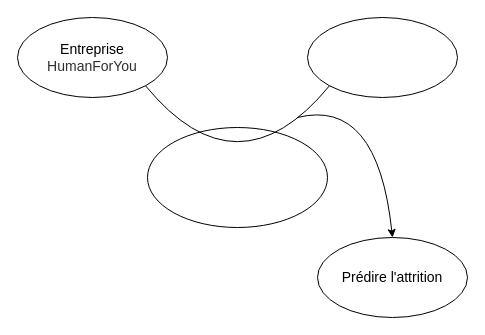
Image size: 485x335. Some labels were removed from this diagram. Here are the shapes that lost their labels. From the top down, the centre of each, then its label:
At point 382,57: "Données des employés".
At point 237,177: "Algorithme d'apprentissage".
